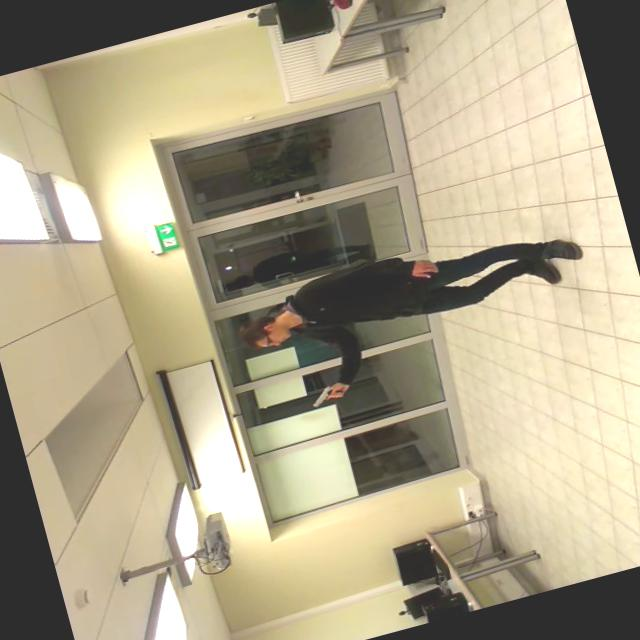handgun: (304, 374, 354, 417)
